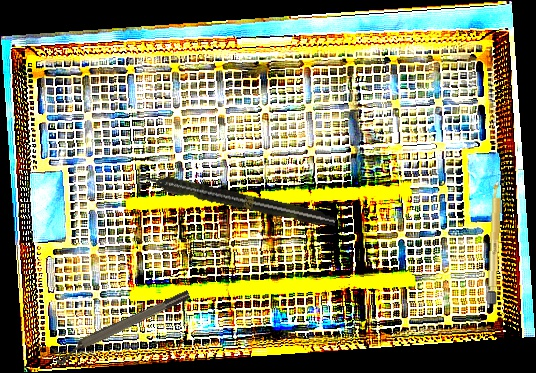Fixation Ring: (50, 287, 195, 367)
Handpiece: (134, 167, 338, 231)
Scalpel Handle: (486, 178, 504, 306)
